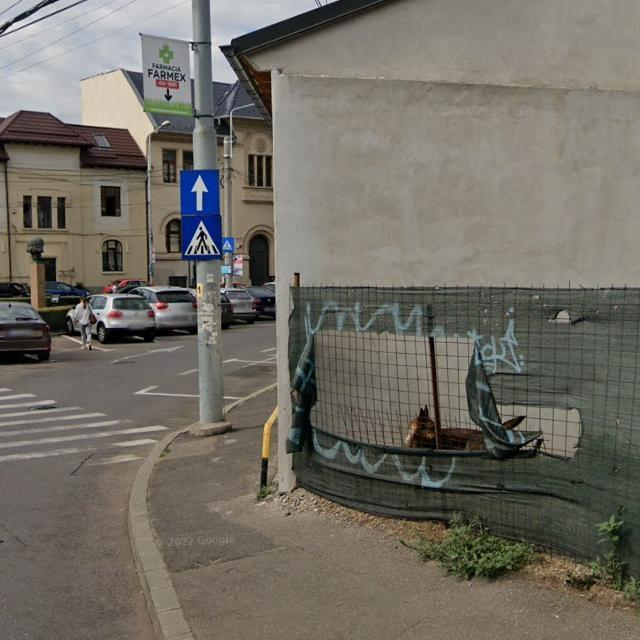info_crosswalk: (181, 218, 224, 261)
